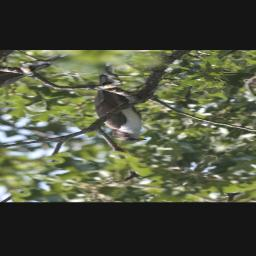Cuckoo: (36, 61, 206, 145)
